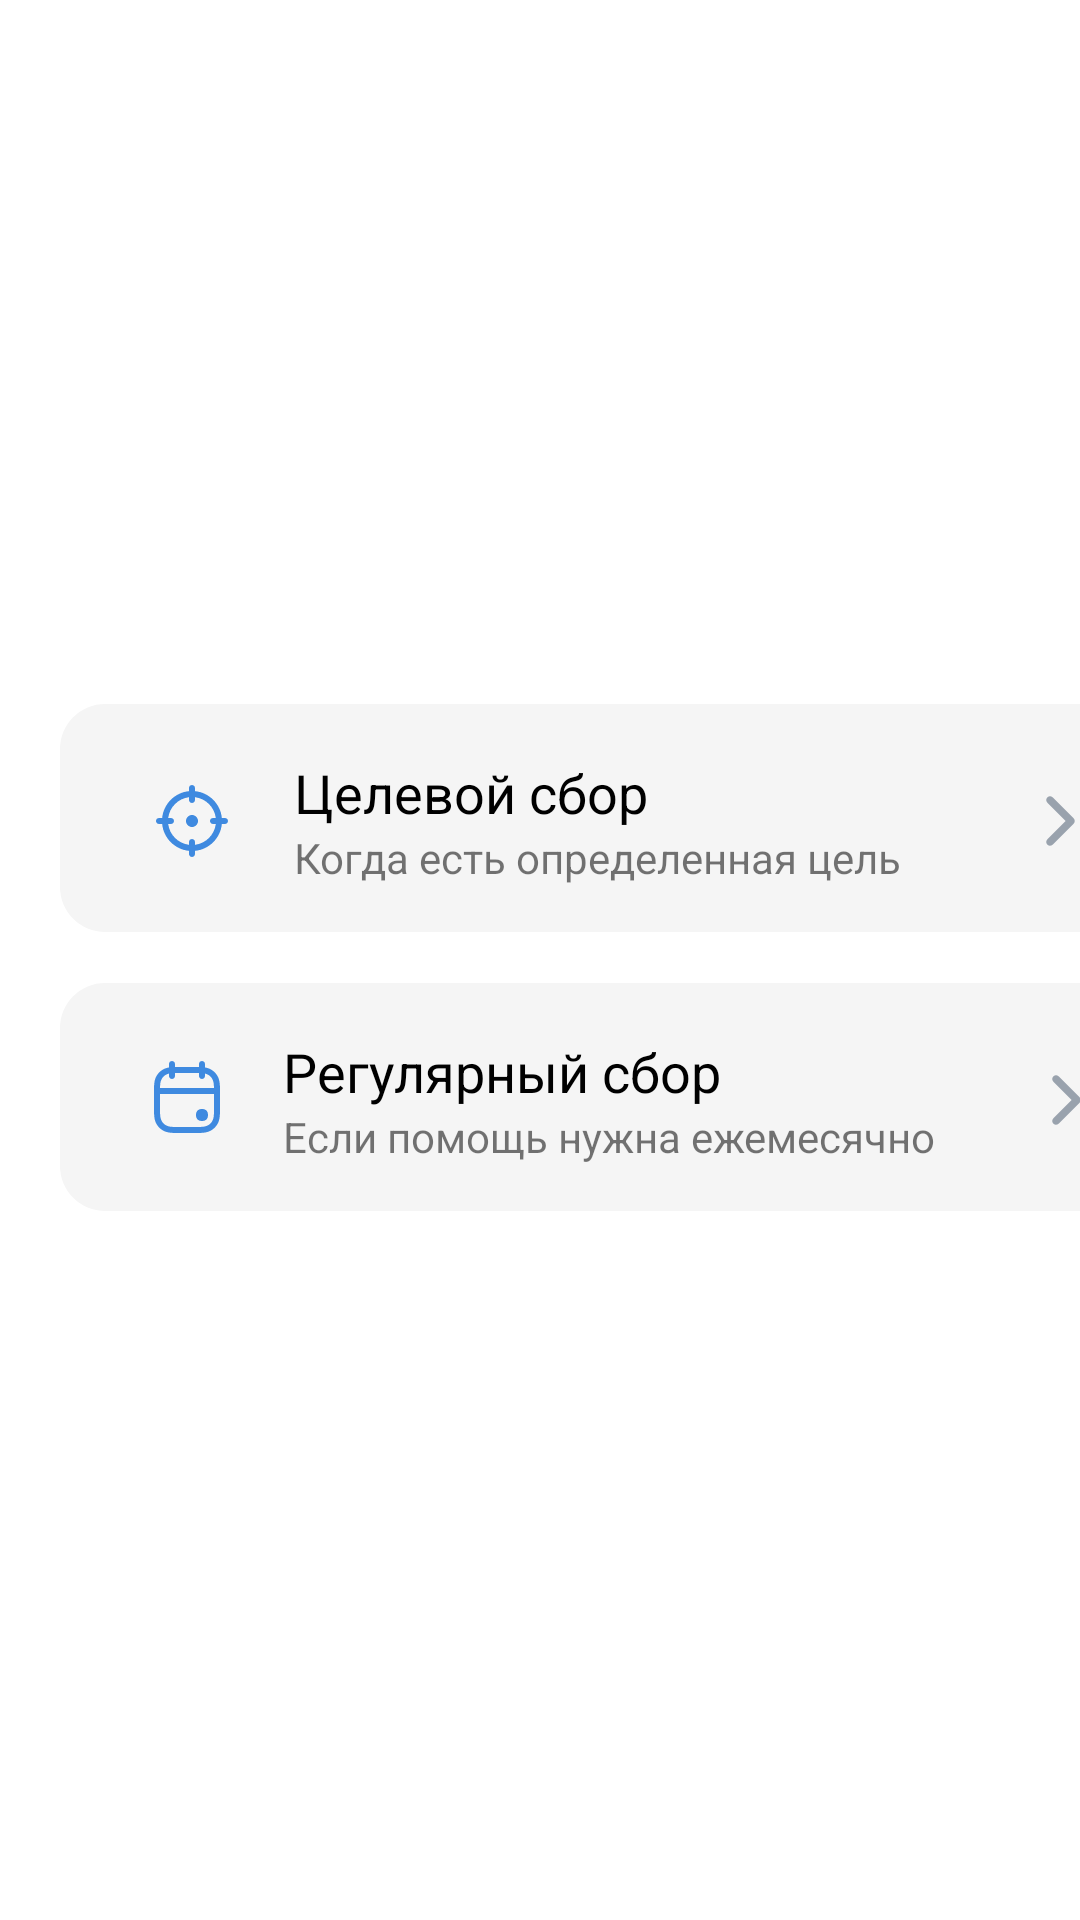

Icon bounding boxes for this 1080*1920 phone screenshot, format [left=x1, top=y1, right=x2, bottom=y2]:
calendar: [left=154, top=1061, right=220, bottom=1133]
target: [left=156, top=785, right=228, bottom=857]
